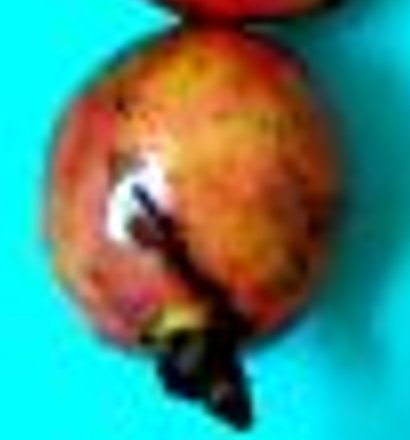pomegranate_B: (46, 24, 340, 433)
